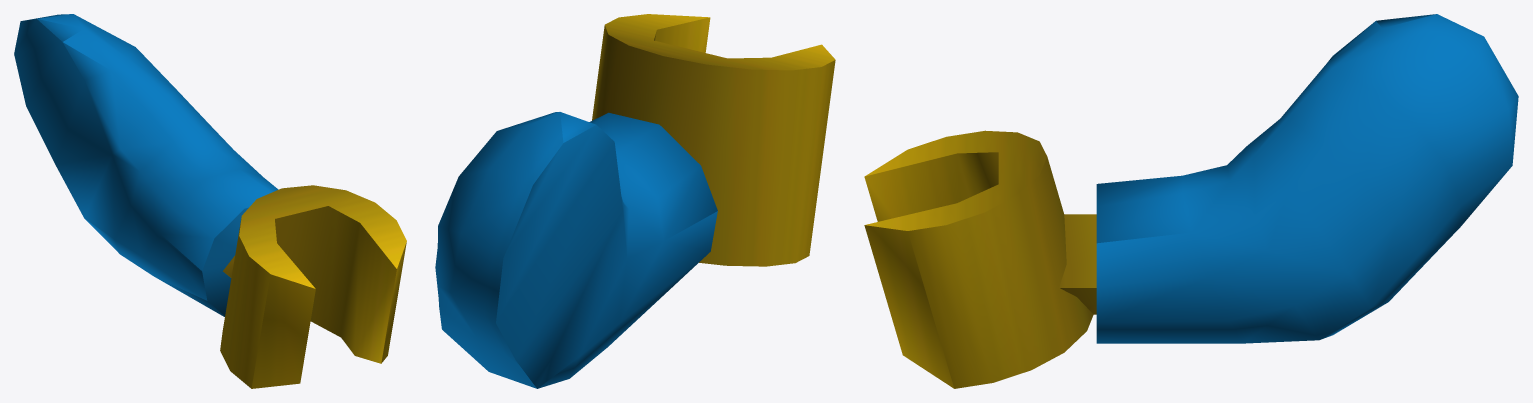
The model's file is emmet_armL.obj.
3 renders of one model, left to right at view 1: azimuth 30°, elevation 25°; view 2: azimuth 150°, elevation 25°; view 3: azimuth 270°, elevation 25°, orthographic. The views are drawn at different scales.
Parts seen in each view (by area): view 1: Mesh_0215.rip; view 2: Mesh_0215.rip; view 3: Mesh_0215.rip.
Part boxes in pixels (<box>): Mesh_0215.rip: <box>14,14,406,388</box>; Mesh_0215.rip: <box>435,14,835,388</box>; Mesh_0215.rip: <box>864,14,1518,388</box>.
Size of the model in its own units: 0.1188 by 0.1646 by 0.3433.
Materials: 1 (1 with a texture image).
